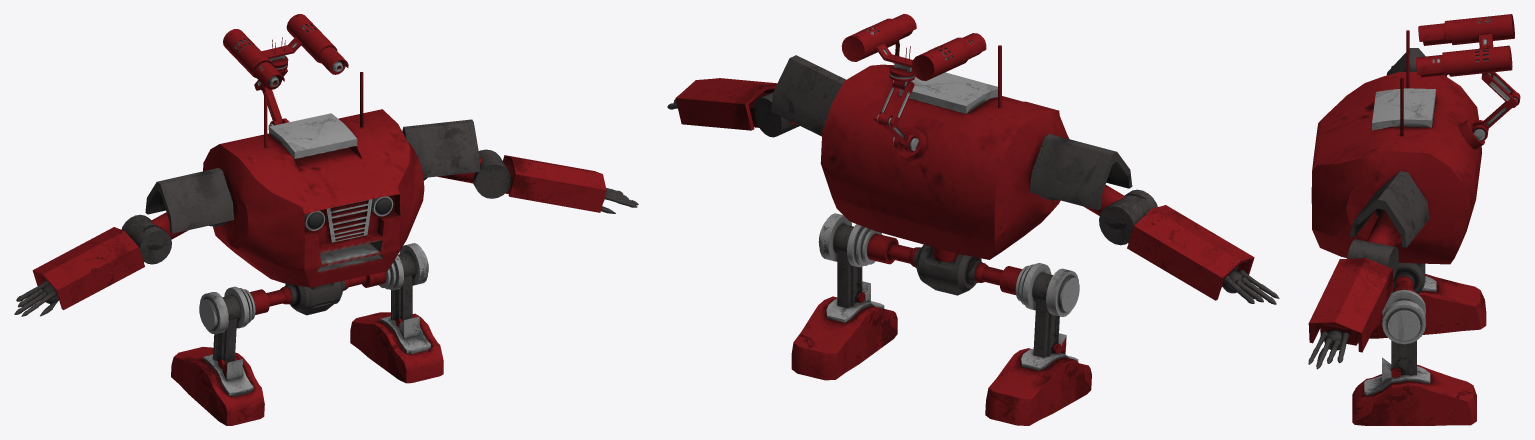
File: RobotTanqueText.fbx
3 views of the same model, side by side, from view 1: azimuth 30°, elevation 25°; view 2: azimuth 150°, elevation 25°; view 3: azimuth 270°, elevation 25° (orthographic). The views are drawn at different scales.
Visible parts, largest first — view 1: Robot_tanque_base, Robot_tanque_pie_Drch, Robot_tanque_brazo_cobertura_Drch, Robot_tanque_pie_izq, Robot_tanque_giro_cubierta_Drch, Robot_tanque_brazo_cobertura_izq1, Robot_tanque_giro_cubierta_izq1, Base_canon_torreta, Robot_tanque_tapa, Robot_tanque_rejilla, Robot_tanque_brazo_Drch1, Robot_tanque_centro_bajo (+8 smaller); view 2: Robot_tanque_base, Robot_tanque_pie_izq, Robot_tanque_brazo_cobertura_Drch, Robot_tanque_pie_Drch, Robot_tanque_giro_cubierta_Drch, Robot_tanque_brazo_cobertura_izq1, Robot_tanque_giro_cubierta_izq1, Base_canon_torreta, Robot_tanque_tapa, Robot_tanque_centro_bajo, Robot_tanque_brazo_Drch1, Robot_tanque_pierna_Drch_4 (+10 smaller); view 3: Robot_tanque_base, Robot_tanque_pie_izq, Robot_tanque_brazo_cobertura_izq1, Base_canon_torreta, Robot_tanque_pie_Drch, Robot_tanque_giro_cubierta_izq1, Robot_tanque_tapa, Robot_tanque_pierna_izq_4, Canon_torreta, Robot_tanque_brazo_izq1, Robot_tanque_pierna_izq_5, Robot_tanque_brazo_izq_4 (+10 smaller).
Boxes of the visible parts, bbox=[...] form: Robot_tanque_base: bbox=[203, 109, 424, 287]; Robot_tanque_pie_Drch: bbox=[171, 347, 264, 425]; Robot_tanque_brazo_cobertura_Drch: bbox=[32, 227, 144, 309]; Robot_tanque_pie_izq: bbox=[350, 312, 443, 383]; Robot_tanque_giro_cubierta_Drch: bbox=[145, 168, 234, 233]; Robot_tanque_brazo_cobertura_izq1: bbox=[503, 155, 606, 212]; Robot_tanque_giro_cubierta_izq1: bbox=[402, 119, 480, 177]; Base_canon_torreta: bbox=[223, 14, 337, 77]; Robot_tanque_tapa: bbox=[269, 113, 357, 158]; Robot_tanque_rejilla: bbox=[324, 199, 372, 242]; Robot_tanque_brazo_Drch1: bbox=[121, 214, 171, 264]; Robot_tanque_centro_bajo: bbox=[284, 280, 344, 315]; Robot_tanque_base: bbox=[820, 64, 1069, 259]; Robot_tanque_pie_izq: bbox=[791, 281, 897, 380]; Robot_tanque_brazo_cobertura_Drch: bbox=[1127, 205, 1254, 300]; Robot_tanque_pie_Drch: bbox=[985, 333, 1091, 425]; Robot_tanque_giro_cubierta_Drch: bbox=[1029, 134, 1132, 210]; Robot_tanque_brazo_cobertura_izq1: bbox=[675, 78, 777, 130]; Robot_tanque_giro_cubierta_izq1: bbox=[771, 55, 845, 136]; Base_canon_torreta: bbox=[841, 18, 972, 80]; Robot_tanque_tapa: bbox=[899, 72, 997, 113]; Robot_tanque_centro_bajo: bbox=[914, 244, 982, 295]; Robot_tanque_brazo_Drch1: bbox=[1099, 189, 1157, 245]; Robot_tanque_pierna_Drch_4: bbox=[1046, 268, 1079, 316]; Robot_tanque_base: bbox=[1311, 72, 1481, 264]; Robot_tanque_pie_izq: bbox=[1352, 357, 1476, 425]; Robot_tanque_brazo_cobertura_izq1: bbox=[1308, 258, 1393, 352]; Base_canon_torreta: bbox=[1442, 14, 1514, 76]; Robot_tanque_pie_Drch: bbox=[1369, 274, 1486, 338]; Robot_tanque_giro_cubierta_izq1: bbox=[1349, 171, 1429, 247]; Robot_tanque_tapa: bbox=[1372, 88, 1435, 130]; Robot_tanque_pierna_izq_4: bbox=[1382, 300, 1425, 344]; Canon_torreta: bbox=[1416, 23, 1451, 77]; Robot_tanque_brazo_izq1: bbox=[1347, 239, 1398, 279]; Robot_tanque_pierna_izq_5: bbox=[1391, 340, 1416, 376]; Robot_tanque_brazo_izq_4: bbox=[1367, 209, 1400, 246].
Bounding box in the file's own units: 630 × 342 × 191.
